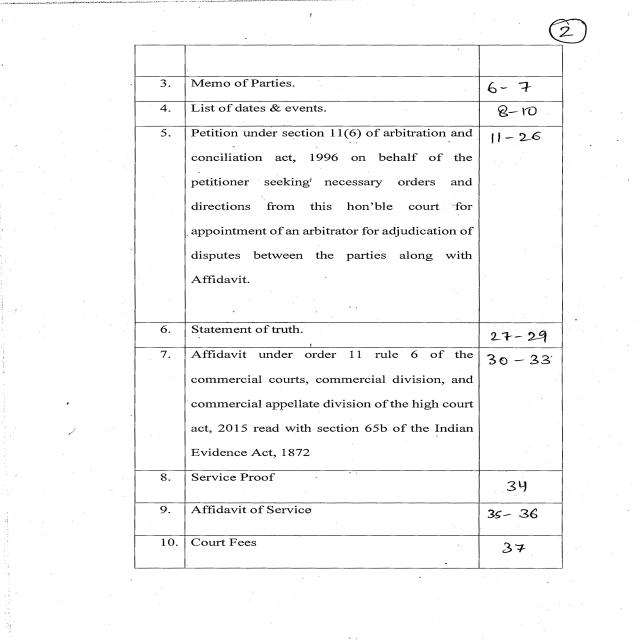page-number: (461, 0, 639, 44)
